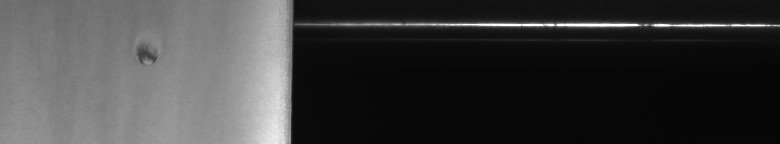fi: (132, 36, 161, 68)
